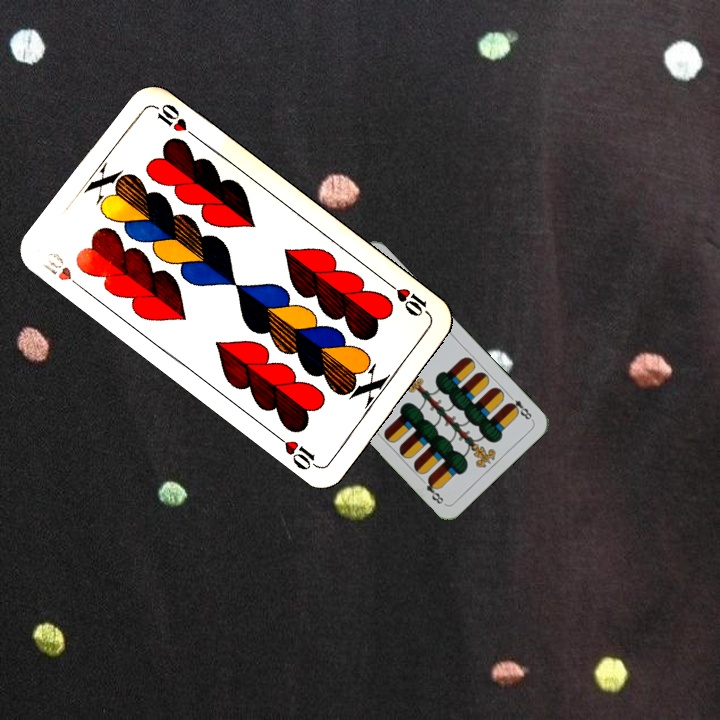E8: (504, 390, 535, 423)
H10: (37, 248, 88, 294), (384, 278, 434, 321)
